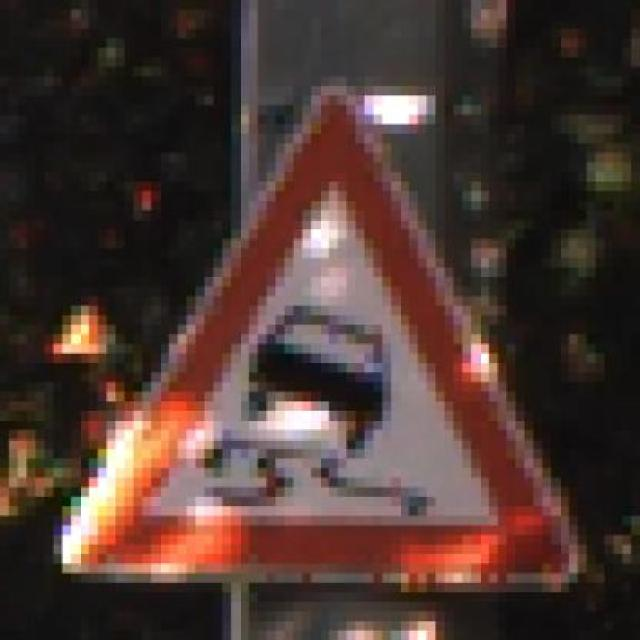Slippery Road Ahead: (44, 66, 587, 592)
